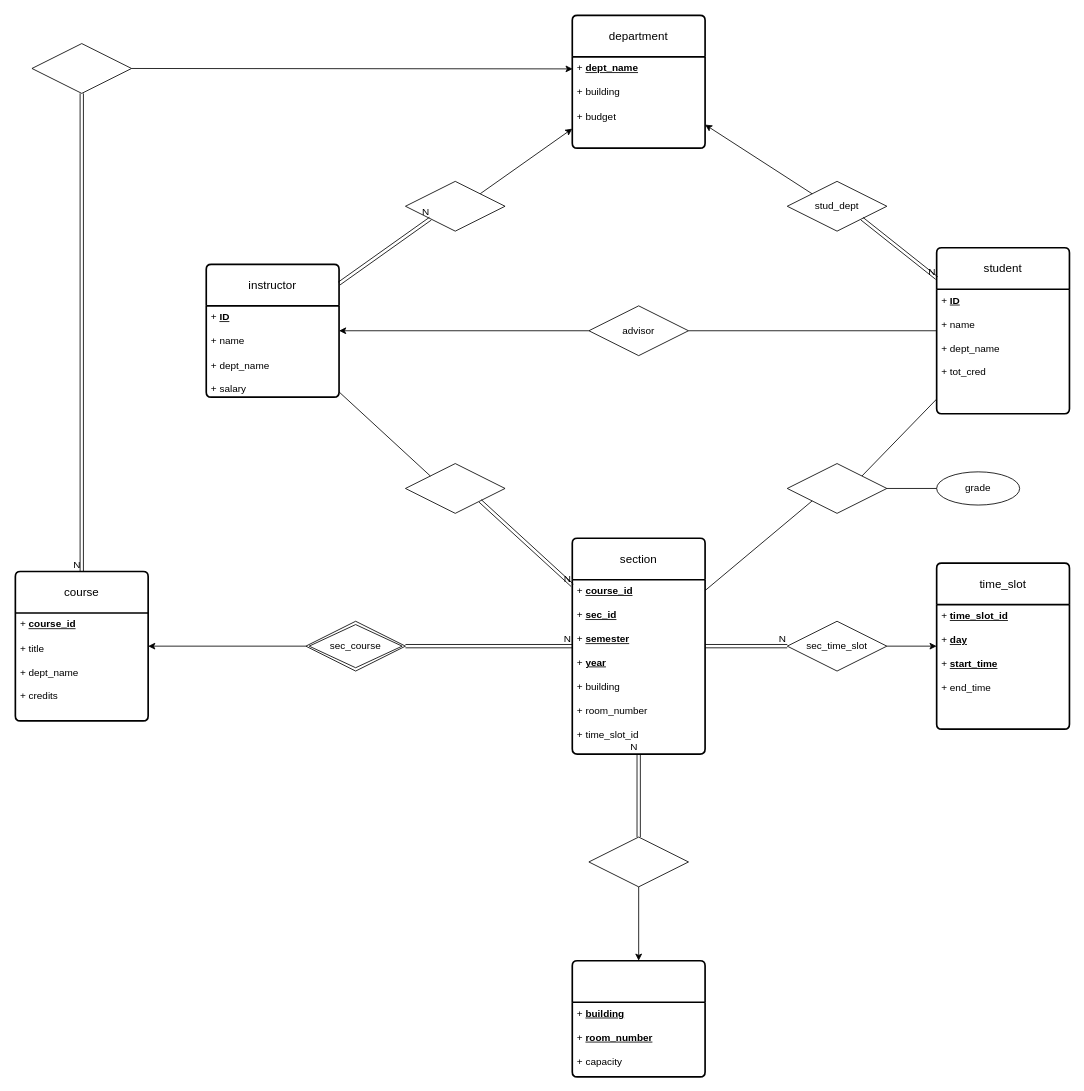
The diagram is 1084 pixels wide and 1091 high, and some of its shapes have lost their labels. Here are the shapes that lost their labels. From the top down, the box of each, then its label:
(31, 43, 132, 93): course_dept
(405, 181, 505, 231): inst_dept
(405, 463, 505, 513): teaches
(786, 463, 887, 513): takes
(588, 836, 688, 887): sec_class
(571, 959, 706, 1077): classroom
